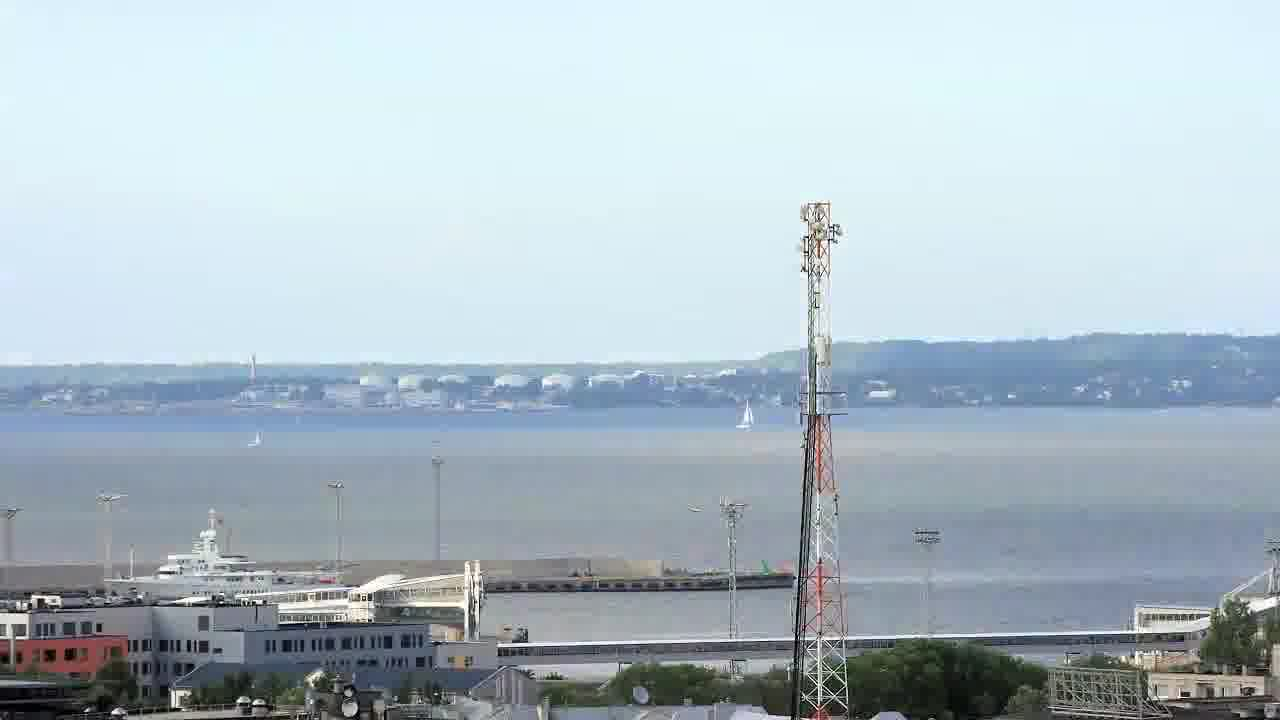type-2: (719, 391, 774, 444)
type-3: (88, 507, 346, 605)
